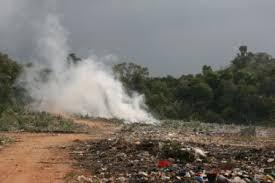smoke: (20, 11, 160, 126)
